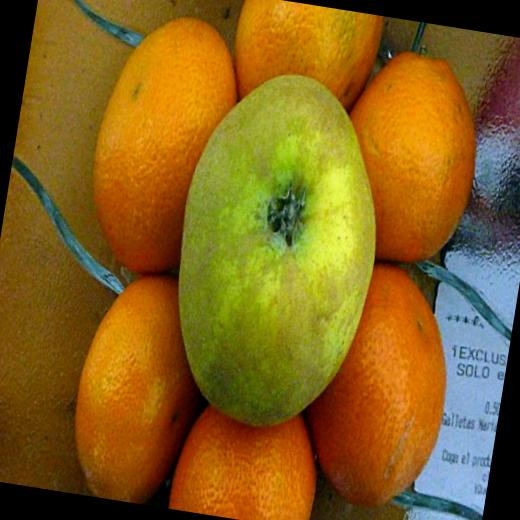Grape: (294, 260, 467, 520), (79, 12, 244, 281), (328, 49, 496, 266), (62, 275, 212, 510), (227, 0, 391, 112), (170, 404, 324, 520)
